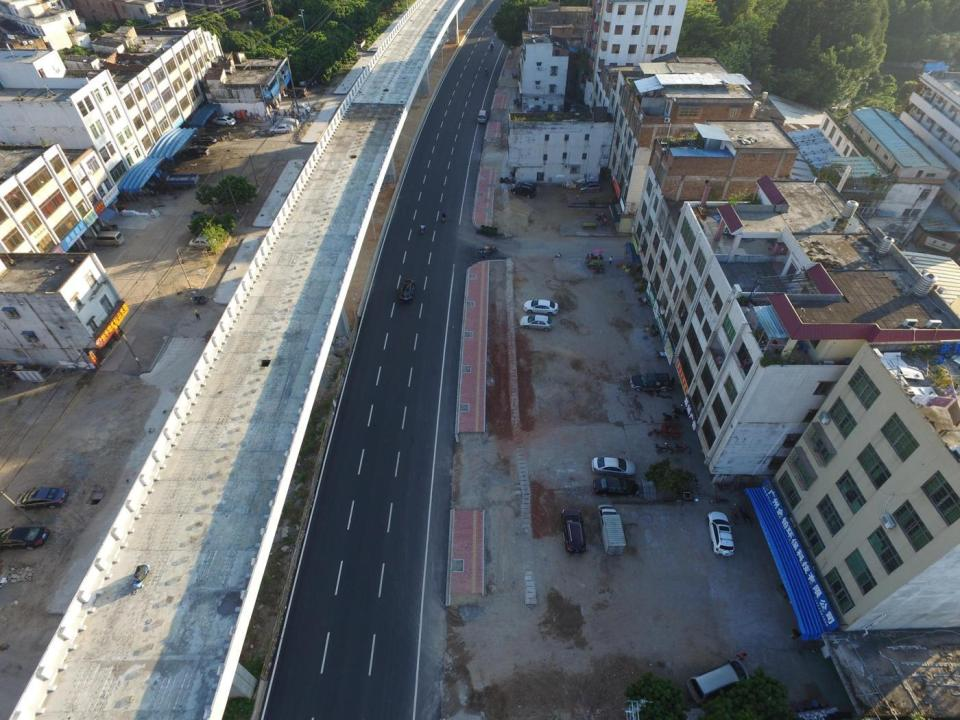car: (0, 523, 50, 553), (704, 509, 735, 556), (560, 506, 588, 556), (13, 487, 70, 509), (593, 476, 639, 498), (590, 456, 636, 477), (628, 373, 673, 394), (518, 314, 552, 332), (522, 298, 558, 314), (511, 182, 539, 200), (398, 278, 417, 302), (192, 134, 218, 146), (189, 237, 216, 248), (270, 122, 294, 134), (579, 180, 601, 193), (212, 115, 236, 126), (273, 117, 298, 127), (476, 108, 488, 124)
truck: (595, 504, 626, 558), (157, 172, 200, 189), (190, 209, 216, 223), (181, 146, 209, 158)
van: (683, 660, 751, 706), (93, 230, 124, 248), (288, 87, 306, 100), (290, 102, 311, 113)
